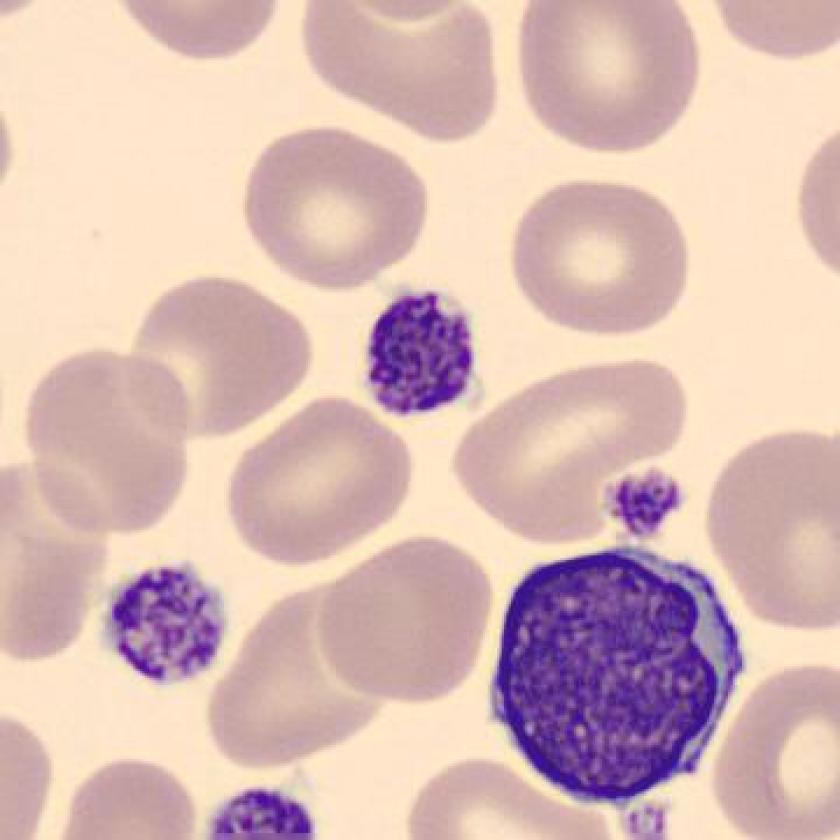platelets: (94, 554, 244, 700), (356, 281, 489, 429), (594, 457, 696, 556)
